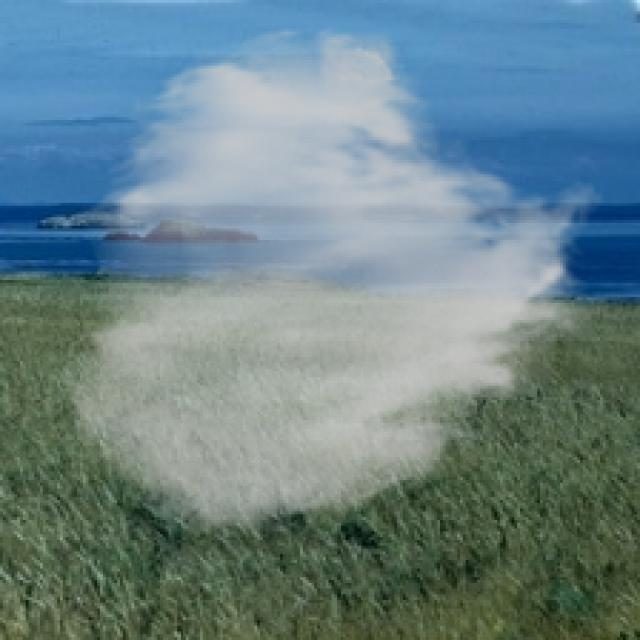smoke: (60, 23, 606, 540)
